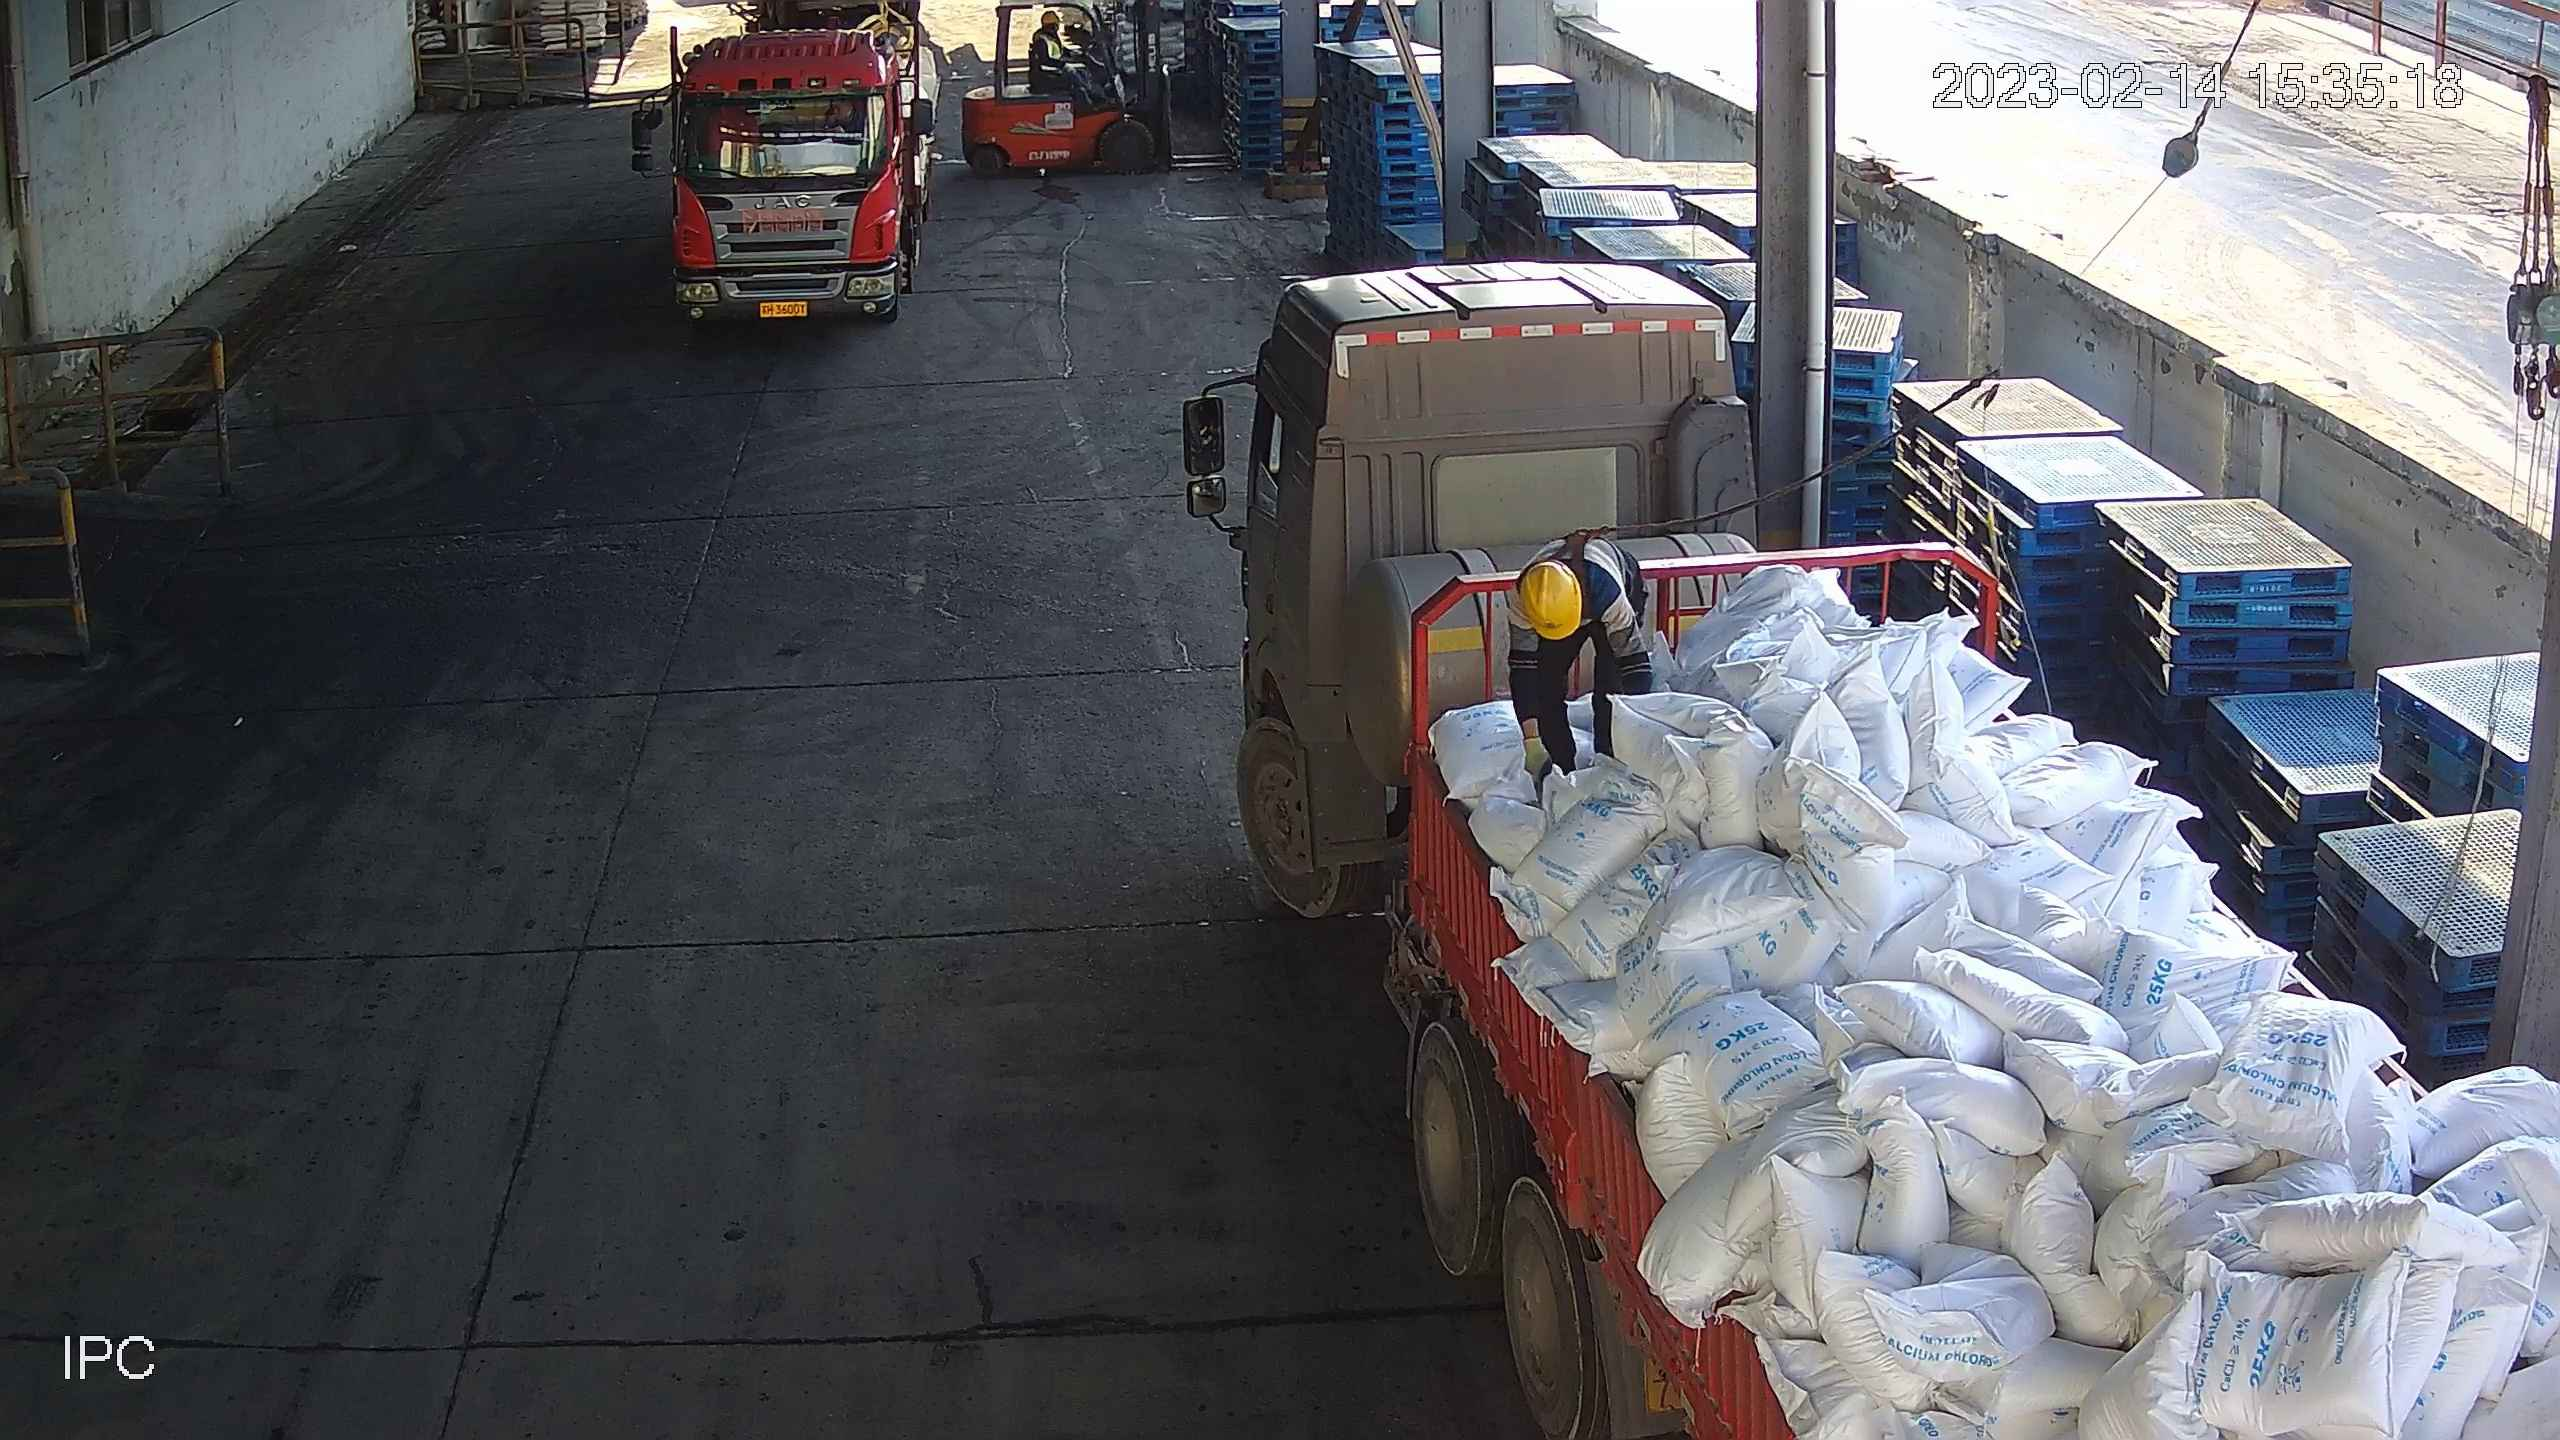belt: (1530, 512, 1658, 579)
head: (1509, 550, 1625, 643)
helmet: (1517, 558, 1582, 642)
people: (1506, 533, 1653, 809)
truck: (1216, 260, 2560, 1440), (654, 8, 946, 338)
